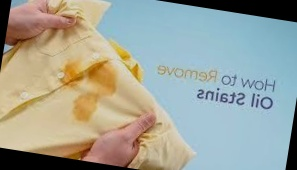oil: (69, 58, 124, 124), (61, 61, 87, 89)
